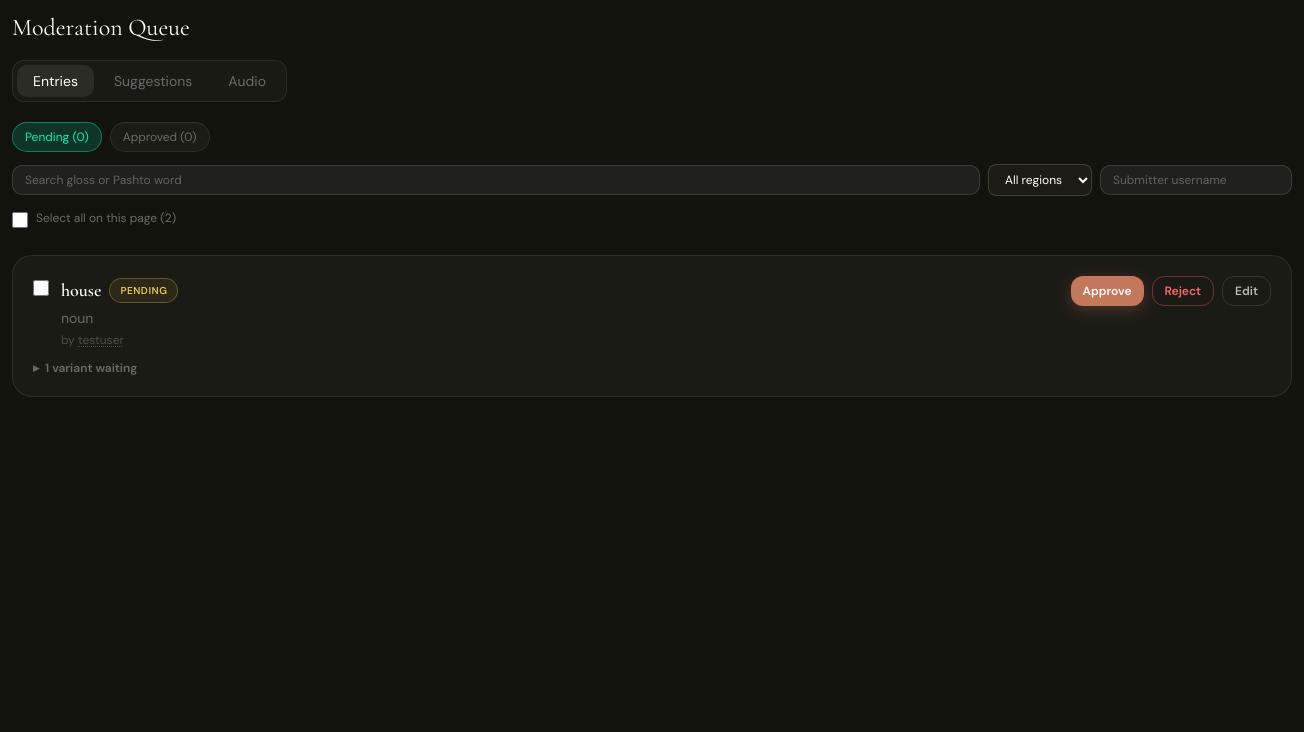
Test: Grouped queue — concept rows with variant dropdowns › does not toggle the row when a concept action button is clicked
Click the button "Edit" at {"x": 1247, "y": 291}, box [1222, 276, 1271, 306]
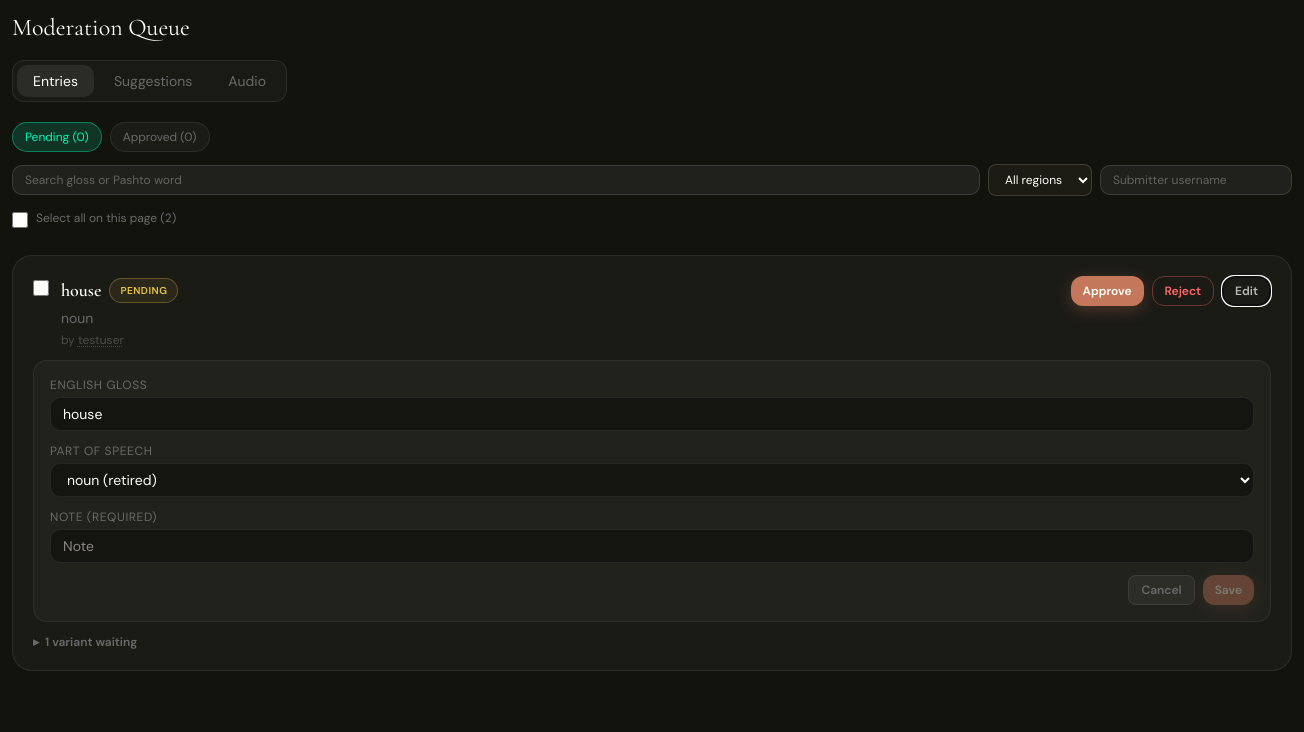
Expected: the form named "edit concept" is shown, [33, 360, 1271, 622]
